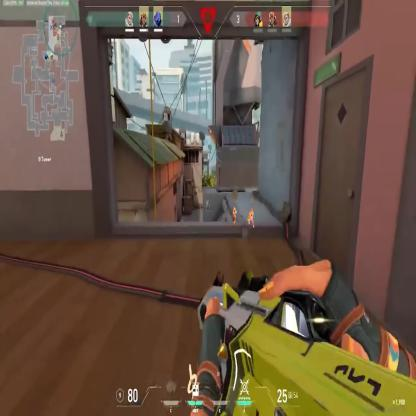enemy: (247, 208, 255, 228), (232, 206, 236, 224)
enemy_head: (250, 209, 253, 212), (234, 206, 235, 210)
